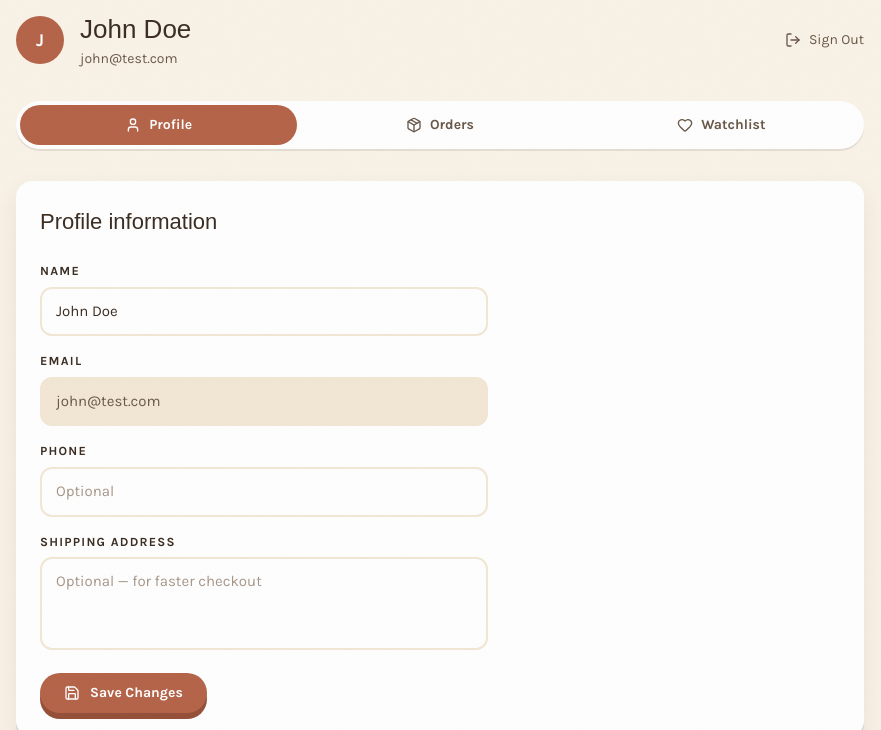
it: AccountPage › switches to Orders tab showing empty state
The width and height of the screenshot is (881, 730).
Click the button "Orders".
click(440, 125)  # box x1=301 y1=105 x2=579 y2=145
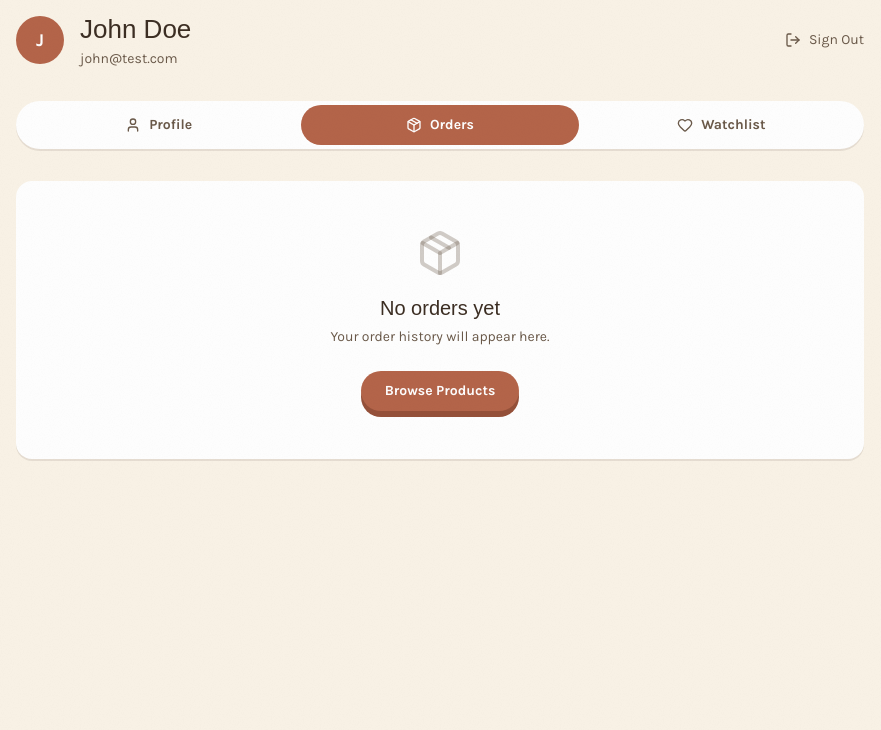
Expected: the heading "No orders yet" is shown, x1=380 y1=297 x2=500 y2=319
Expected: the link "Browse Products" is shown, x1=361 y1=371 x2=519 y2=411
